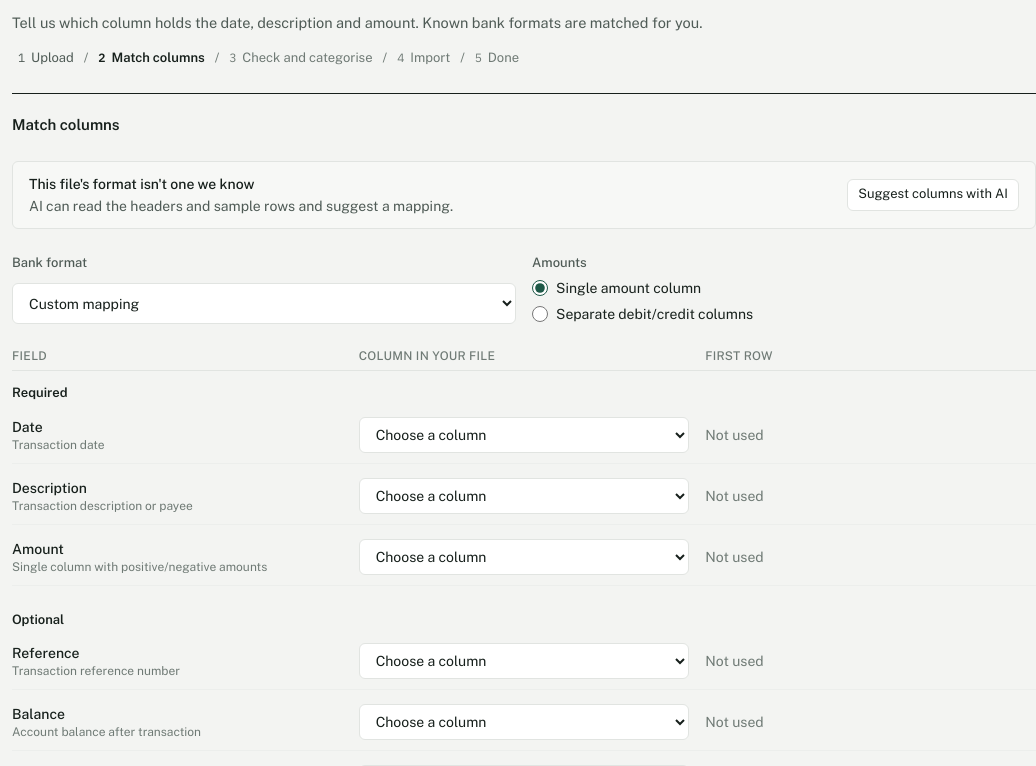
ImportWizard › step navigation › completed steps can be revisited
Expected: the heading "Match columns" is shown, [12, 116, 120, 133]
Click the button "1Upload" at [46, 58], box [12, 46, 80, 69]
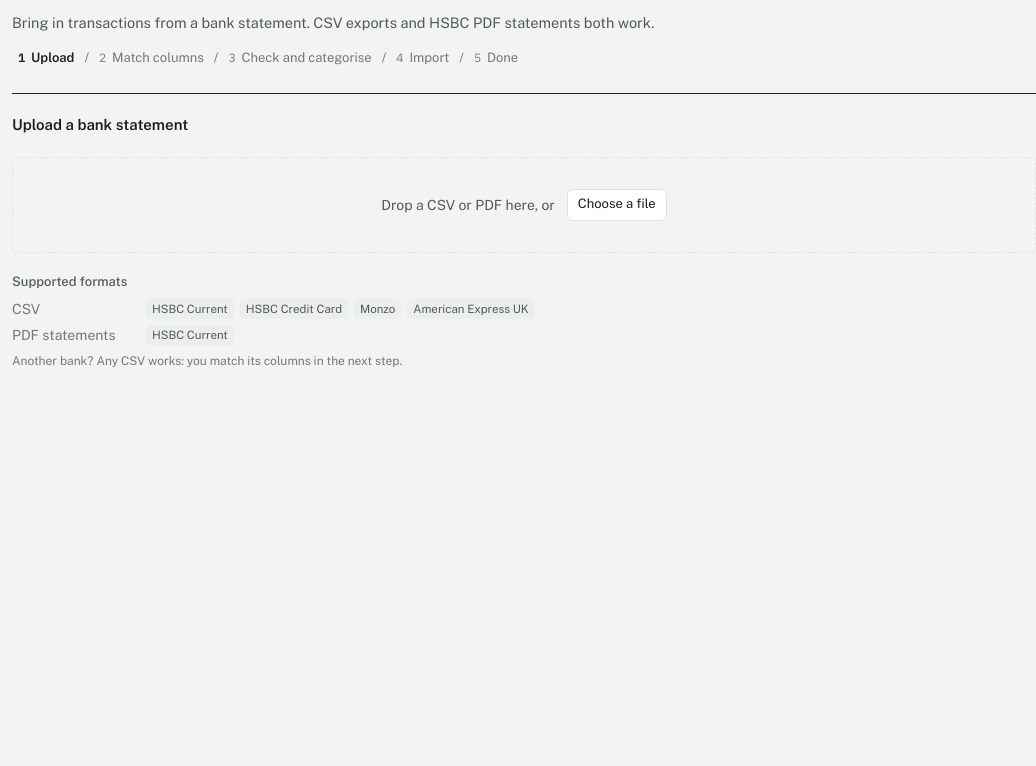
Result: the heading "Upload a bank statement" is shown at [12, 116, 188, 133]
